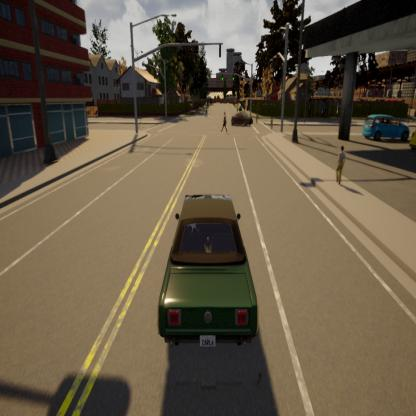Cars: (148, 184, 263, 356), (360, 112, 410, 144), (229, 113, 255, 129)
Pedestrian: (334, 141, 347, 188), (219, 110, 229, 136), (204, 106, 210, 118)
